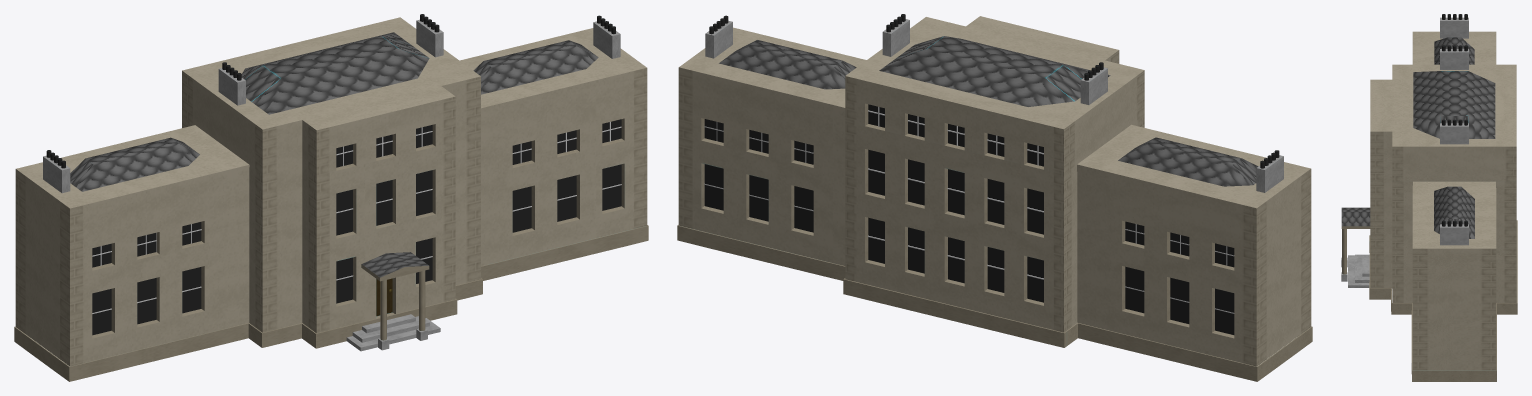
File: House2.obj
3 views of the same model, side by side, from view 1: azimuth 30°, elevation 25°; view 2: azimuth 150°, elevation 25°; view 3: azimuth 270°, elevation 25° (orthographic). The views are drawn at different scales.
Parts seen in each view (by area): view 1: House2; view 2: House2; view 3: House2.
Boxes of the visible parts, <box> form: House2: <box>14,14,648,381</box>; House2: <box>677,14,1312,381</box>; House2: <box>1341,14,1517,381</box>.
Bounding box in the file's own units: 103 × 42.01 × 35.42.
